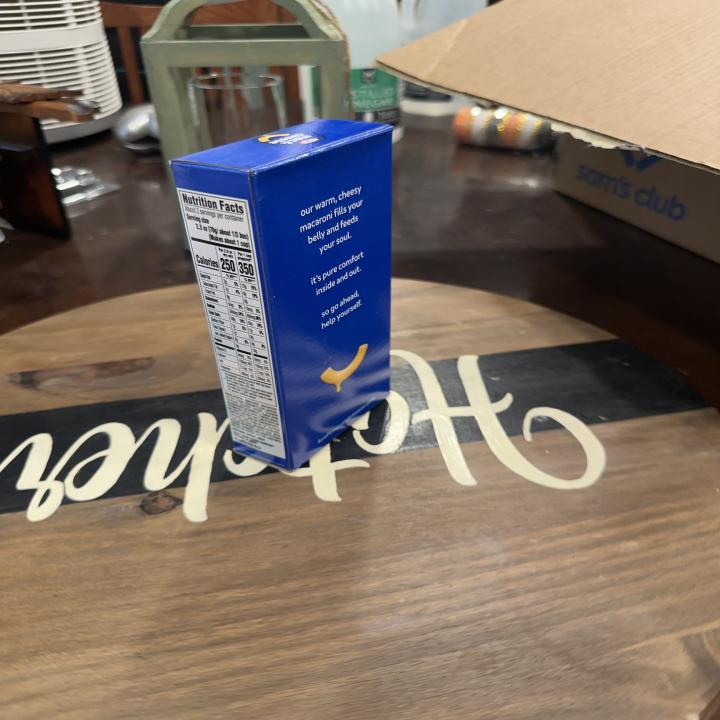Mac-And-Cheese: (170, 114, 394, 472)
